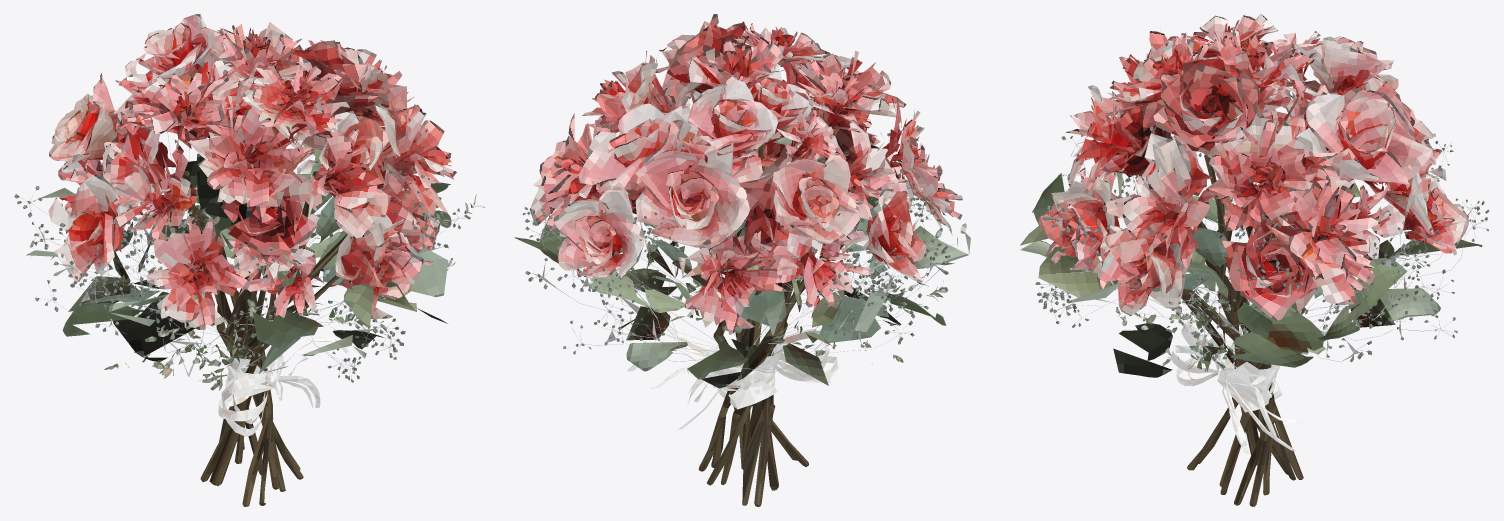
File: flower-draco.glb
The picture shows the model from 3 angles, left to right: view 1: azimuth 30°, elevation 25°; view 2: azimuth 150°, elevation 25°; view 3: azimuth 270°, elevation 25°; orthographic projection. The views are drawn at different scales.
Parts seen in each view (by area): view 1: Petal_002_Petals2_0, Leaves_001_Leaves1_0, SmallPlants_001_SmallPlants3_0, Stems_Stems_0, Ribbons_001_Ribbons1_0; view 2: Petal_002_Petals2_0, Leaves_001_Leaves1_0, SmallPlants_001_SmallPlants3_0, Stems_Stems_0, Ribbons_001_Ribbons1_0; view 3: Petal_002_Petals2_0, Leaves_001_Leaves1_0, SmallPlants_001_SmallPlants3_0, Stems_Stems_0, Ribbons_001_Ribbons1_0.
Boxes of the visible parts, x1=… form: Petal_002_Petals2_0: x1=48, y1=14, x2=456, y2=329; Leaves_001_Leaves1_0: x1=26, y1=131, x2=451, y2=390; SmallPlants_001_SmallPlants3_0: x1=14, y1=116, x2=484, y2=390; Stems_Stems_0: x1=166, y1=171, x2=352, y2=506; Ribbons_001_Ribbons1_0: x1=216, y1=310, x2=350, y2=436; Petal_002_Petals2_0: x1=529, y1=14, x2=962, y2=334; Leaves_001_Leaves1_0: x1=514, y1=133, x2=970, y2=388; SmallPlants_001_SmallPlants3_0: x1=522, y1=125, x2=966, y2=373; Stems_Stems_0: x1=672, y1=142, x2=844, y2=506; Ribbons_001_Ribbons1_0: x1=627, y1=325, x2=838, y2=429; Petal_002_Petals2_0: x1=1038, y1=14, x2=1469, y2=320; Leaves_001_Leaves1_0: x1=1020, y1=169, x2=1482, y2=377; SmallPlants_001_SmallPlants3_0: x1=1035, y1=91, x2=1489, y2=371; Stems_Stems_0: x1=1181, y1=154, x2=1303, y2=506; Ribbons_001_Ribbons1_0: x1=1170, y1=322, x2=1305, y2=453.
Bounding box in the file's own units: 53.73 × 57.71 × 56.52.
Materials: 20 (20 with a texture image).
